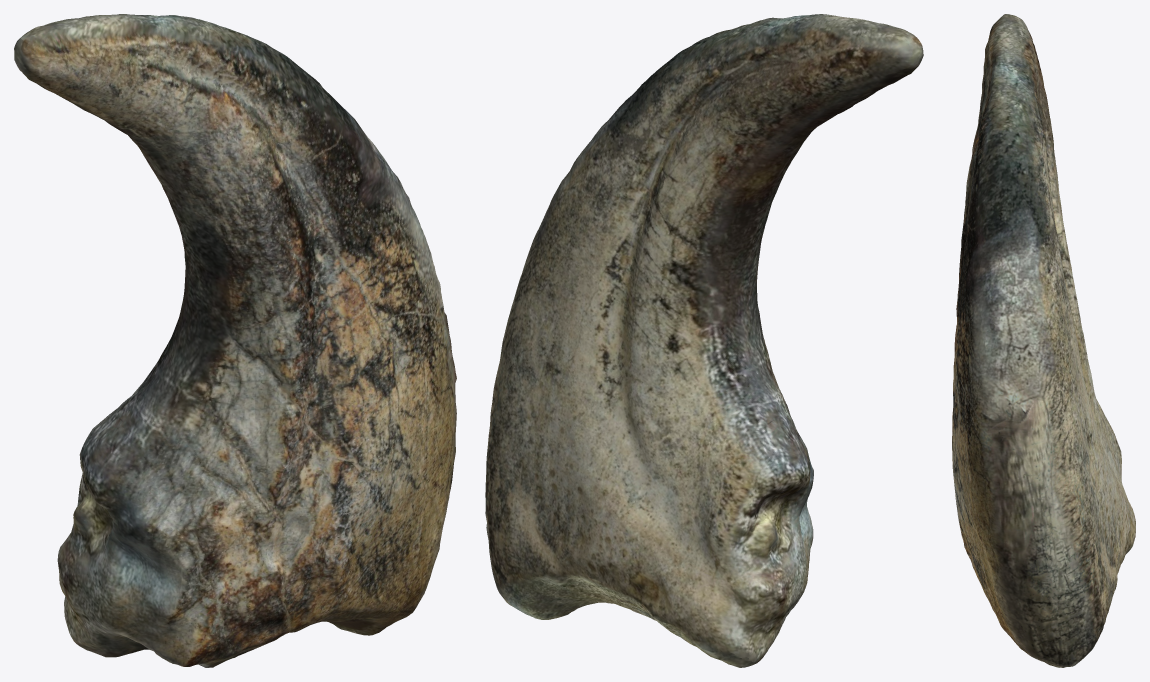
The model's file is 动物牙齿.fbx.
3 renders of one model, left to right at view 1: azimuth 30°, elevation 25°; view 2: azimuth 150°, elevation 25°; view 3: azimuth 270°, elevation 25°, orthographic. The views are drawn at different scales.
Visible parts, largest first — view 1: 9f6f8cb0-1e6f-49bd-9b71-814904e03f58; view 2: 9f6f8cb0-1e6f-49bd-9b71-814904e03f58; view 3: 9f6f8cb0-1e6f-49bd-9b71-814904e03f58.
Part boxes in pixels (x1,y1,x2,y2): 9f6f8cb0-1e6f-49bd-9b71-814904e03f58: [14, 14, 456, 667]; 9f6f8cb0-1e6f-49bd-9b71-814904e03f58: [485, 14, 923, 667]; 9f6f8cb0-1e6f-49bd-9b71-814904e03f58: [952, 14, 1135, 667].
Bounding box in the file's own units: 65.21 × 100 × 31.91.
1 material, 1 textured.
